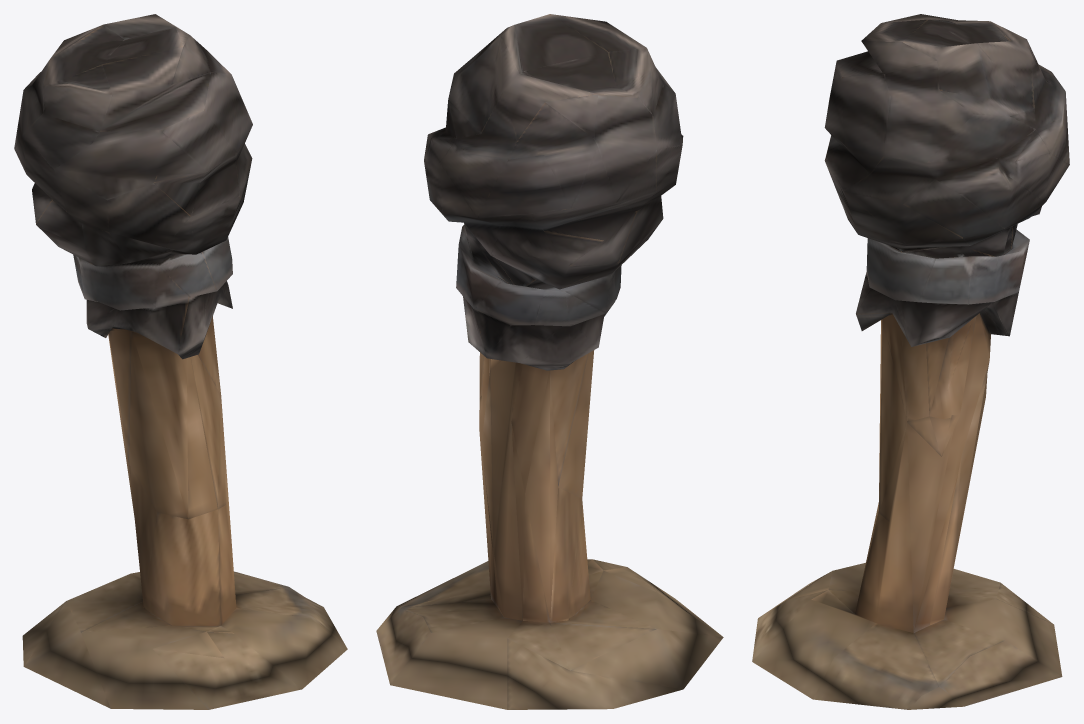
The model's file is prop_torch_small.glb.
3 renders of one model, left to right at view 1: azimuth 30°, elevation 25°; view 2: azimuth 150°, elevation 25°; view 3: azimuth 270°, elevation 25°, orthographic. The views are drawn at different scales.
Bounding box in the file's own units: 0.4482 × 0.9 × 0.4297.
Materials: 1 (1 with a texture image).
